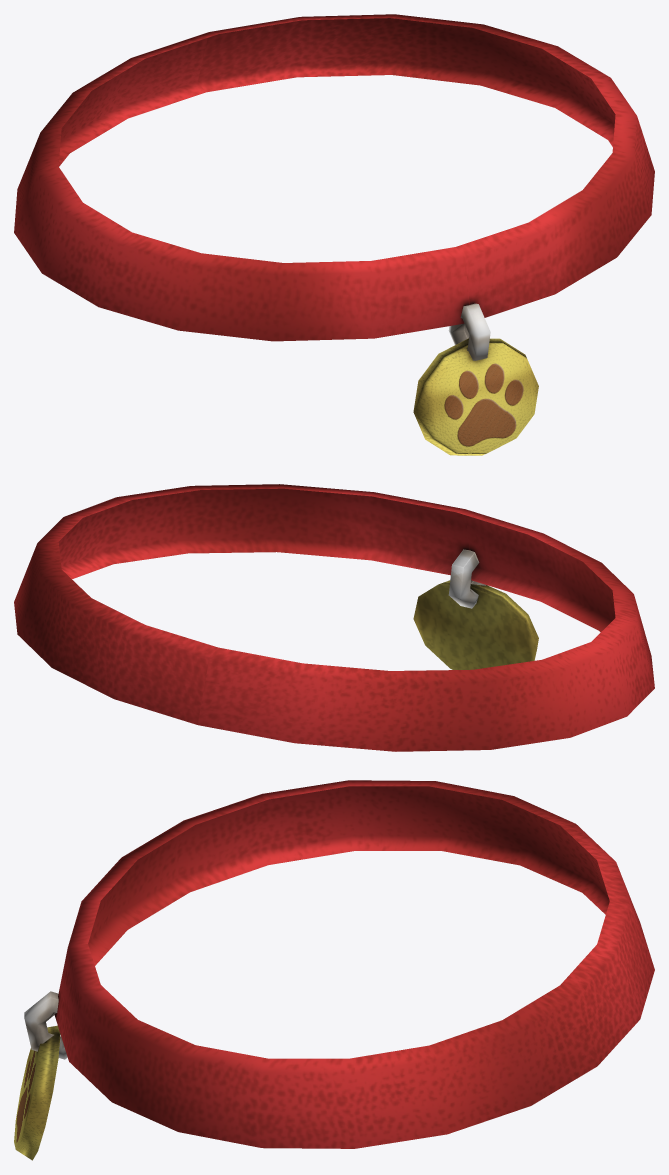
File: SM_Collar.FBX
3 views of the same model, one above another, from view 1: azimuth 30°, elevation 25°; view 2: azimuth 150°, elevation 25°; view 3: azimuth 270°, elevation 25° (orthographic). The views are drawn at different scales.
Parts seen in each view (by area): view 1: SM_Collar; view 2: SM_Collar; view 3: SM_Collar.
Boxes of the visible parts, bbox=[...] form: SM_Collar: bbox=[14, 14, 654, 455]; SM_Collar: bbox=[14, 484, 654, 751]; SM_Collar: bbox=[14, 780, 654, 1160].
Bounding box in the file's own units: 37.23 × 32.18 × 13.89.
